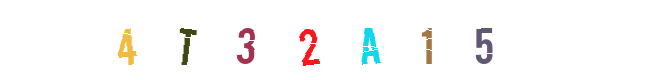1: (329, 0, 409, 80)
2: (283, 0, 363, 80)
3: (269, 0, 349, 80)
4: (87, 0, 167, 80)
5: (343, 0, 423, 80)
A: (307, 0, 387, 80)
T: (147, 0, 227, 80)
